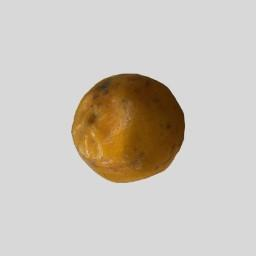Unripe: (71, 71, 184, 181)
